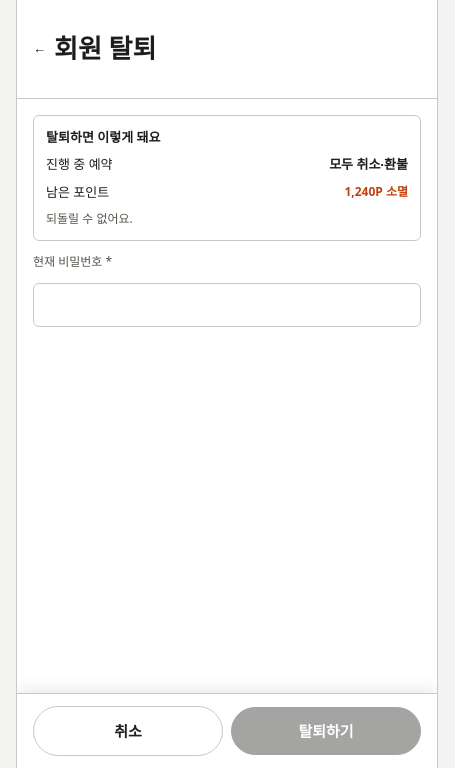
Test: WithdrawPage (C7) › 폼 오류(비밀번호 칸 오류 아님)면 입력칸은 aria-invalid가 아니다
Type "pw123456" into the password field labelled "현재 비밀번호 *" at (227, 305), box [33,283,421,327]
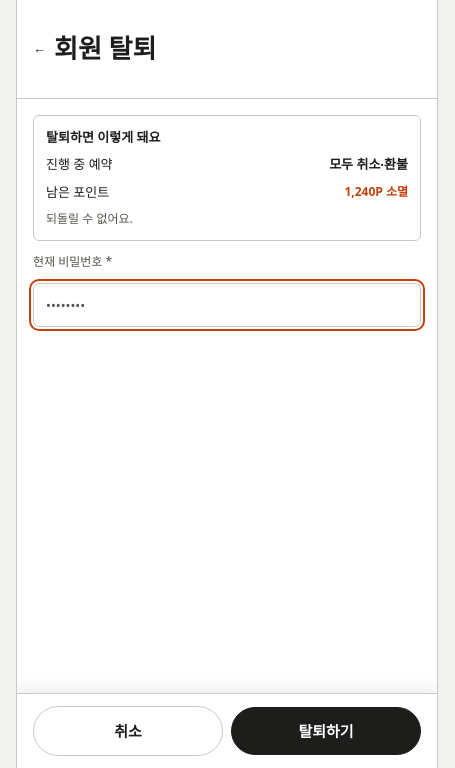
Click the button "탈퇴하기" at (326, 731), box [231,707,421,755]
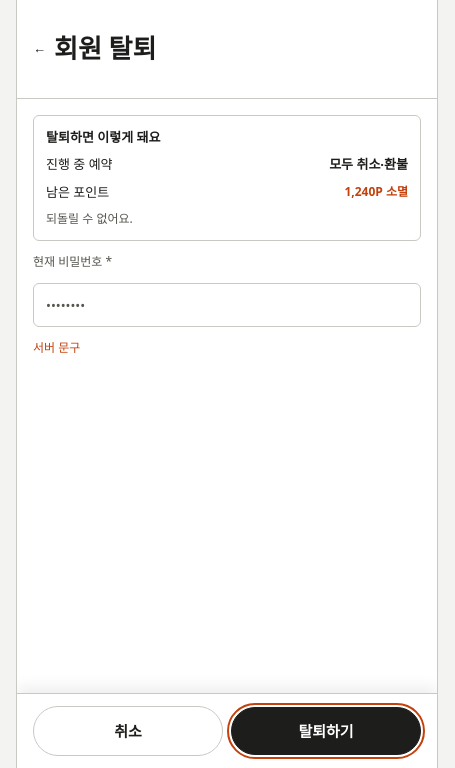
Expected: the text "서버 문구" is shown, [33,339,80,356]
